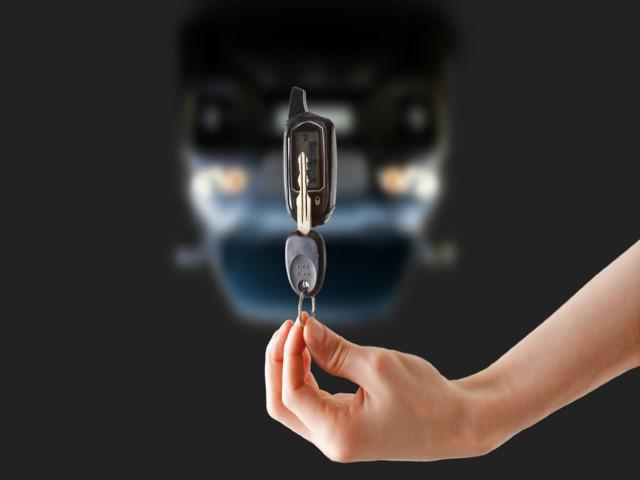key: (284, 152, 326, 326)
